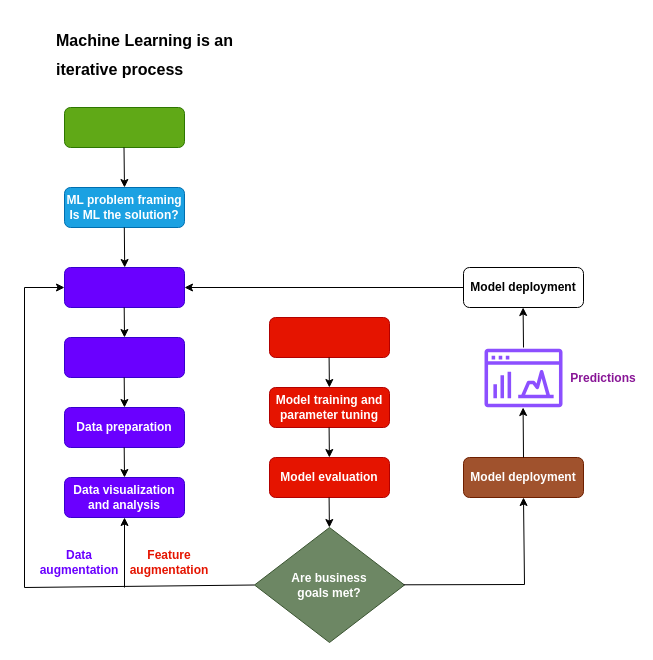
Image size: 653x660. Some labels were removed from this diagram. The box of each missing label's shape, as (x1, y1, x2, y2) in pixels:
Business problem: (64, 106, 184, 148)
Data collection: (64, 266, 184, 308)
Data integration: (64, 336, 184, 378)
Feature engineering: (268, 316, 390, 358)
